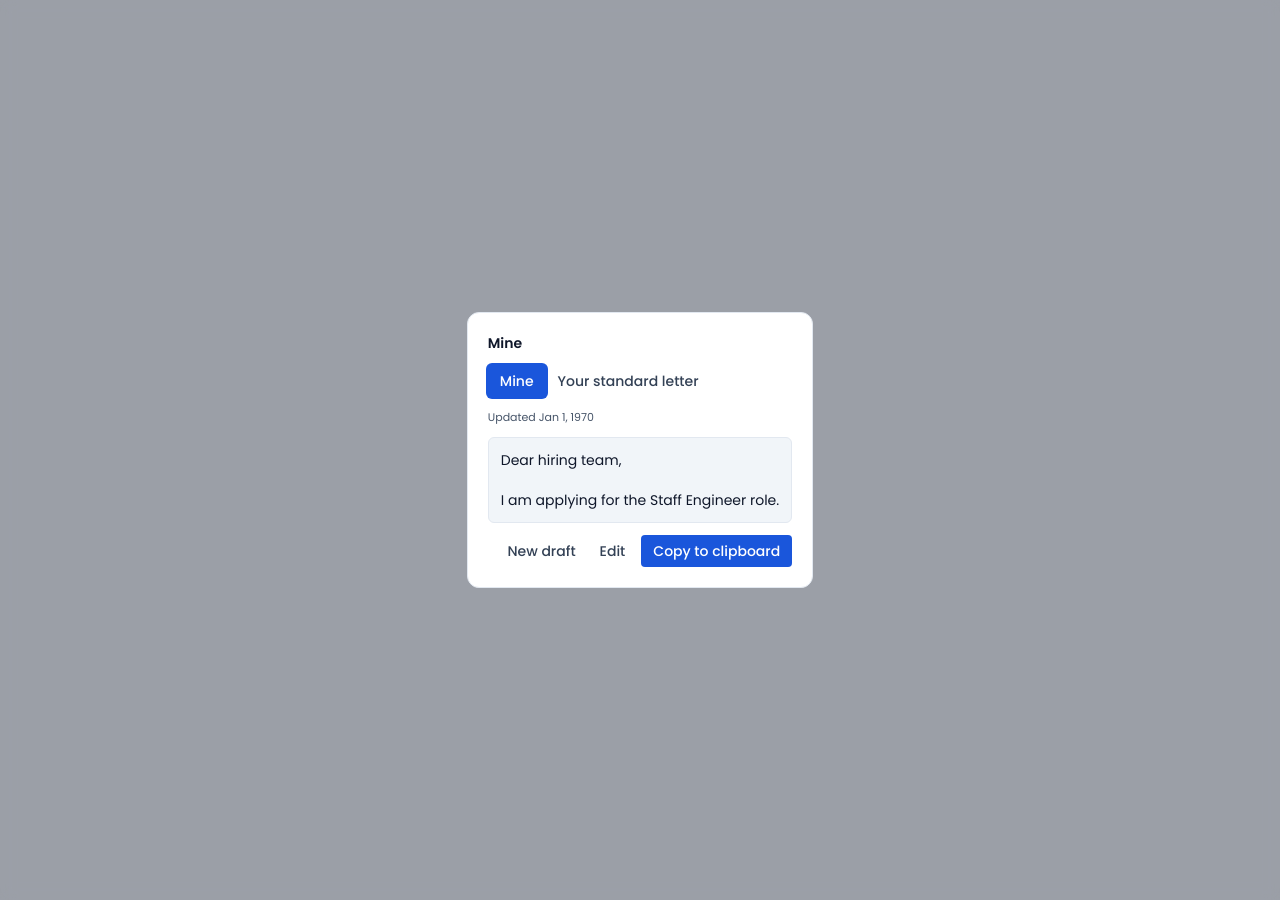
Test: LetterRevealDialog inherited letters (#767) › names the scope once the inherited letter is selected
Click the button "Your standard letter" at (628, 381), box top-left (550, 369), bottom-right (707, 393)
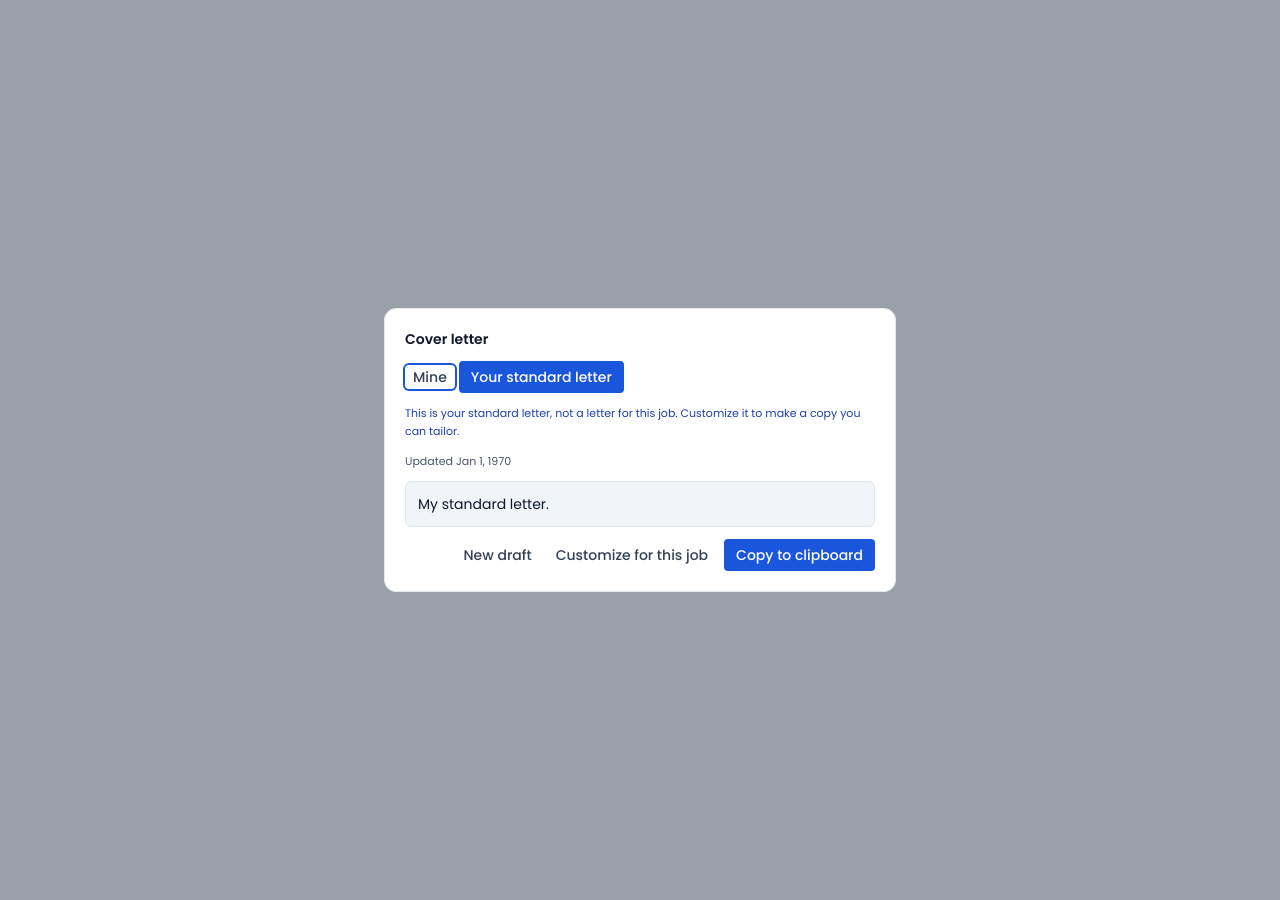
Expected: the text "This is your standard letter, not a letter for this job" is shown, top-left (405, 405), bottom-right (875, 441)
Expected: the text "not a letter for this job" is shown, top-left (405, 405), bottom-right (860, 439)
Expected: the text "My standard letter." is shown, top-left (405, 481), bottom-right (875, 527)
